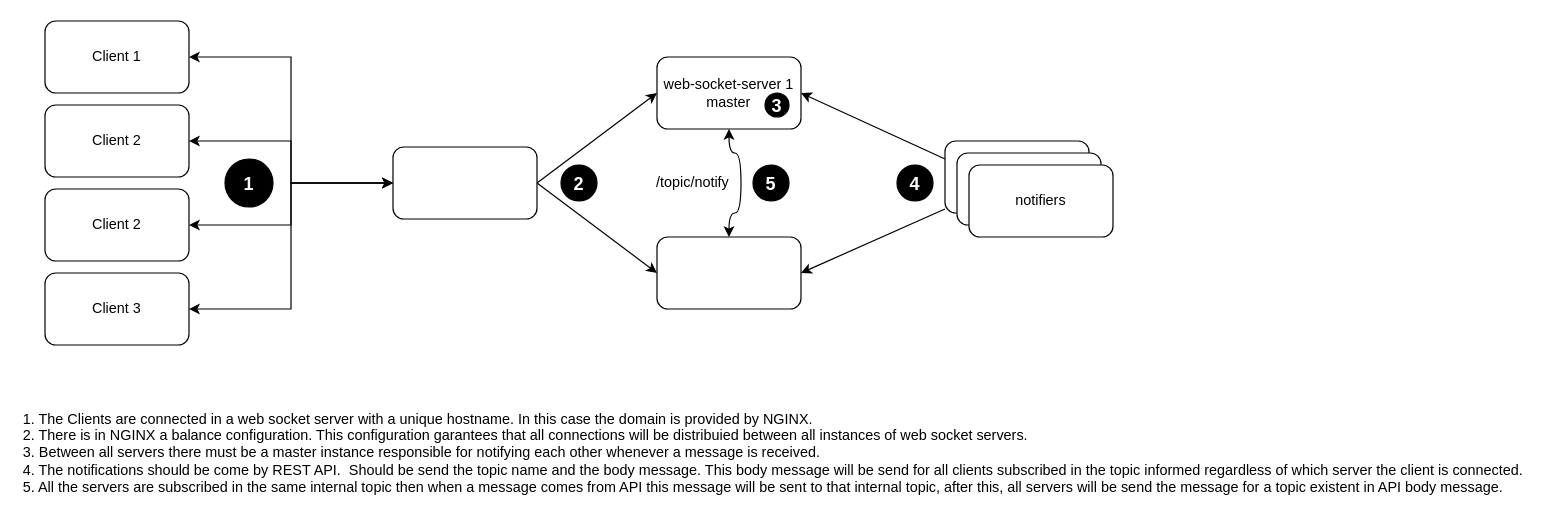
The diagram is 1565 pixels wide and 522 high, and some of its shapes have lost their labels. Here are the shapes that lost their labels. From the top down, the centre of each, then its label:
At (464,182): "nginx".
At (728,272): "web-socket-server 2".
